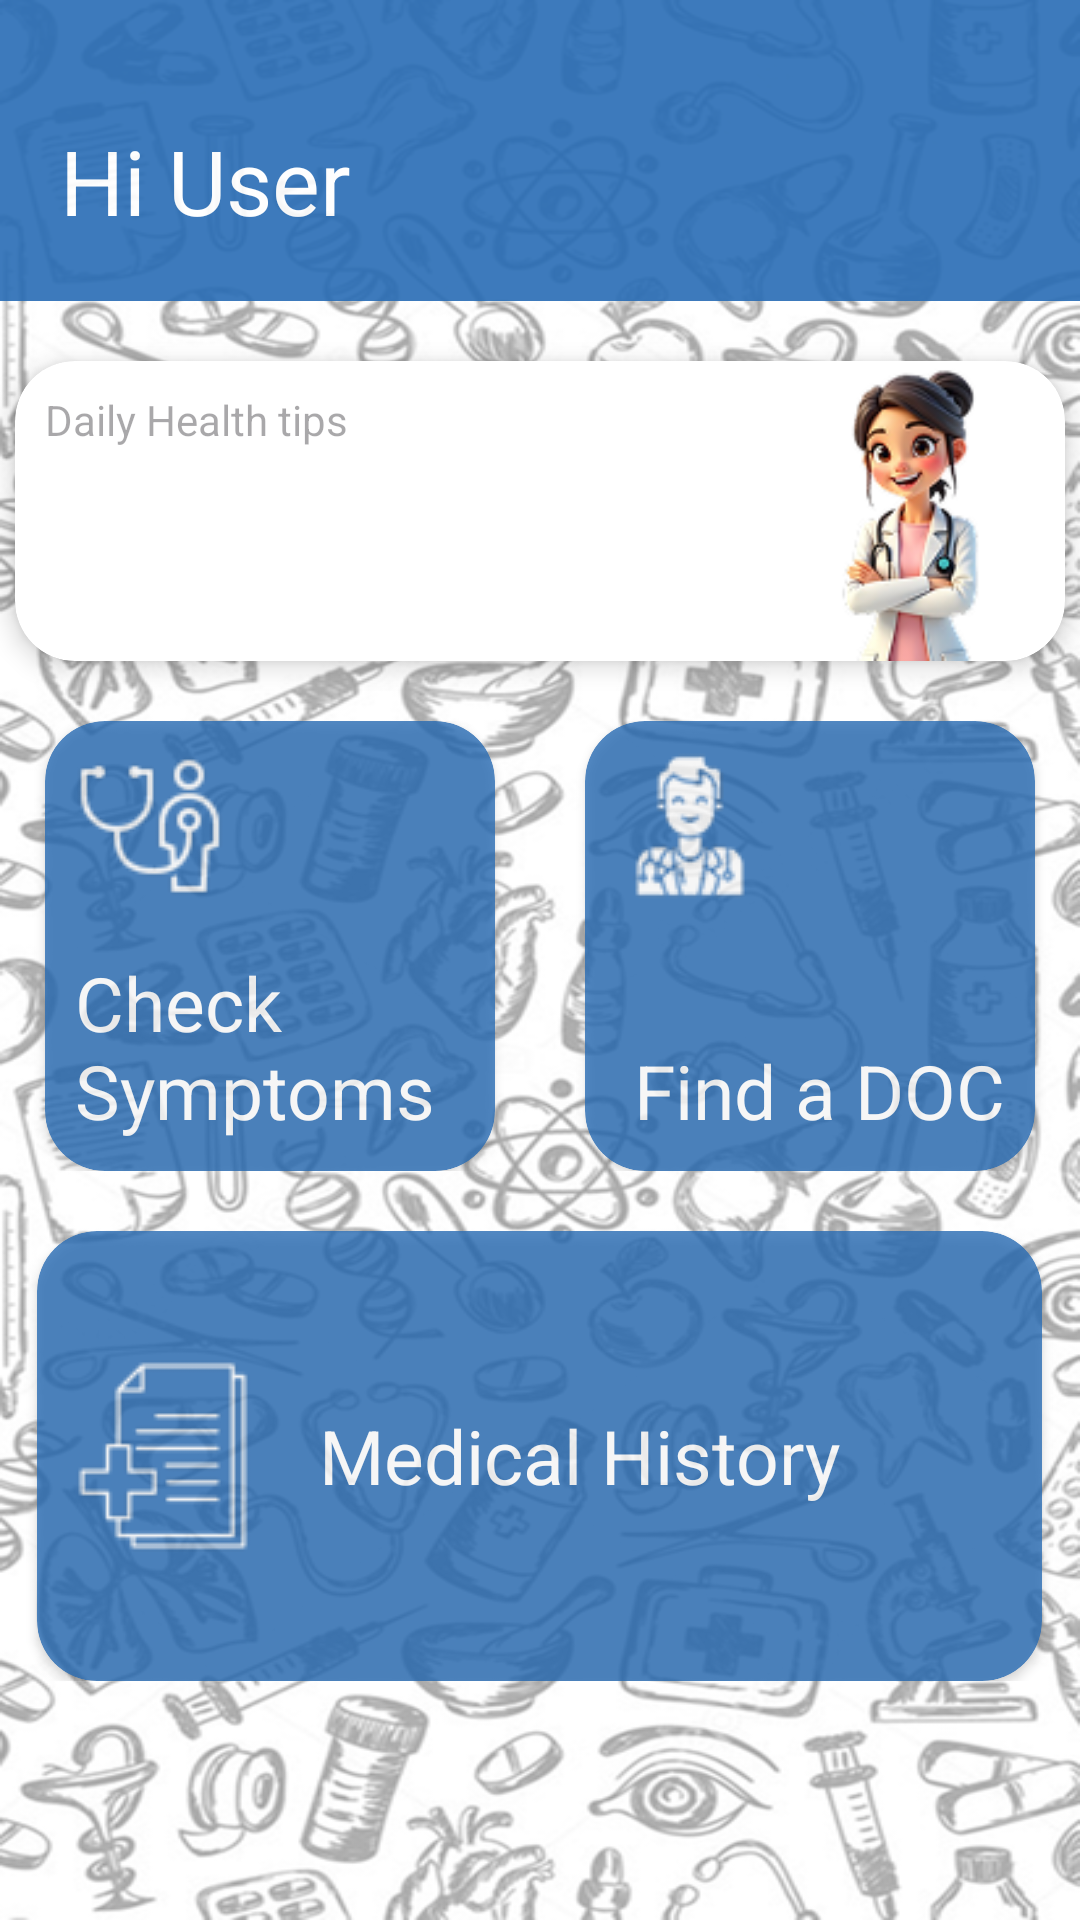

Where to tap for icons on this 1080x1920 app screen, as [x,y]:
doctor: [690,826]
girl: [915,511]
medical docs: [163,1456]
scope: [150,826]
